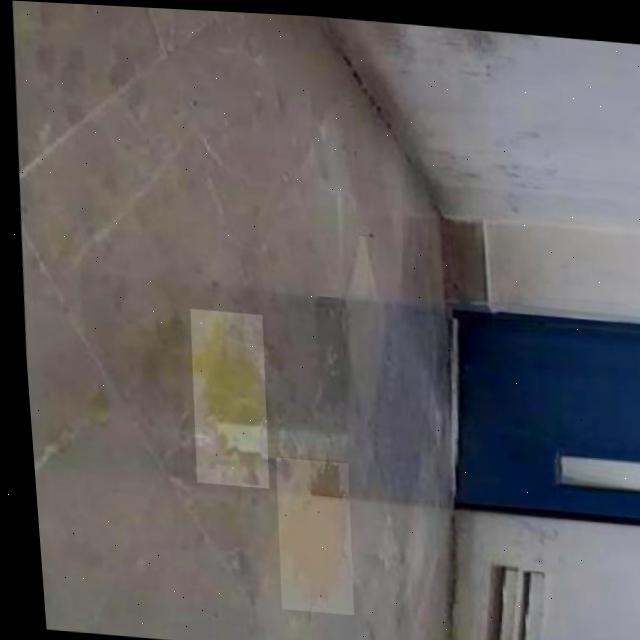spillage: (186, 309, 257, 484), (269, 458, 340, 608)
